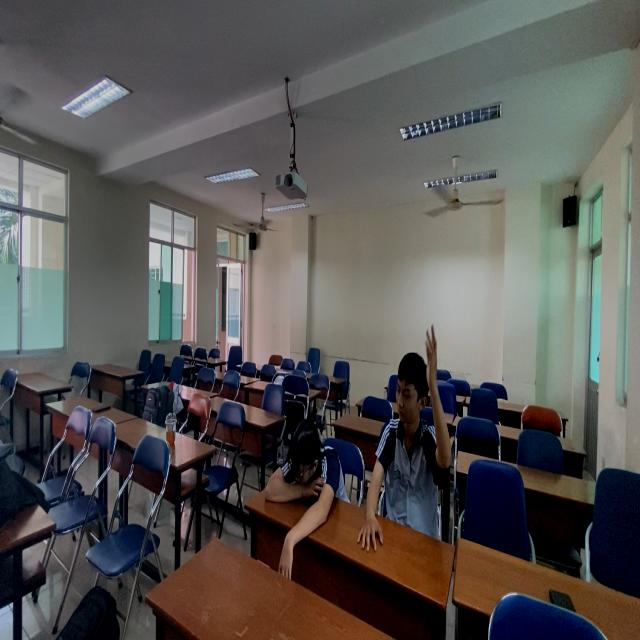raise_hand: (367, 322, 457, 547)
sleep: (256, 410, 355, 524)
